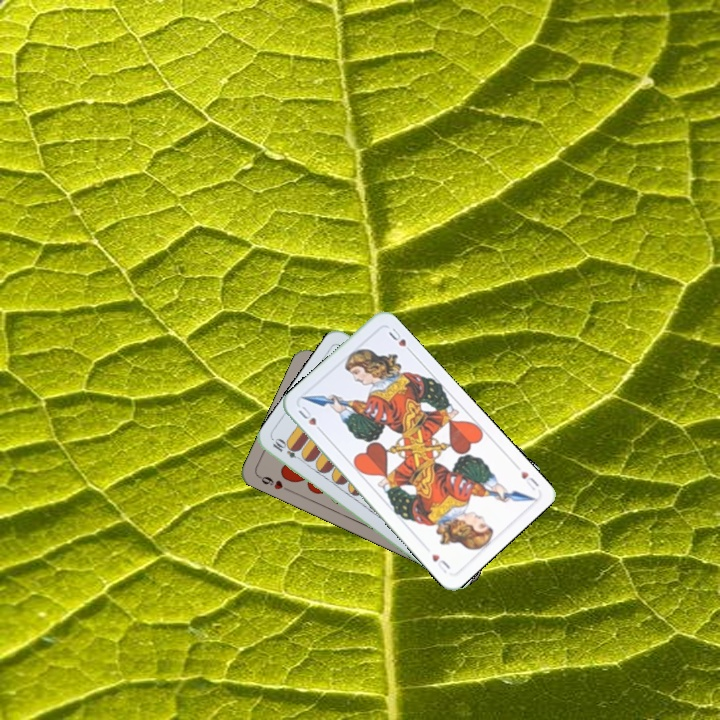E10: (269, 435, 306, 464)
H9: (254, 471, 293, 494)
HU: (294, 402, 326, 436), (517, 467, 541, 493)
